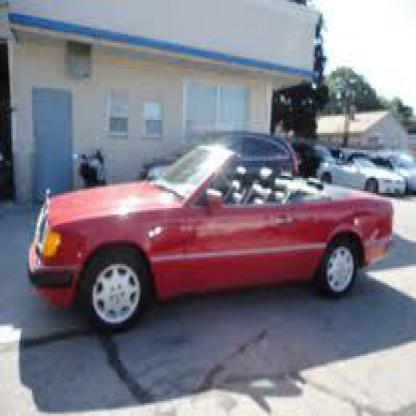Vehicle: (27, 148, 397, 337)
